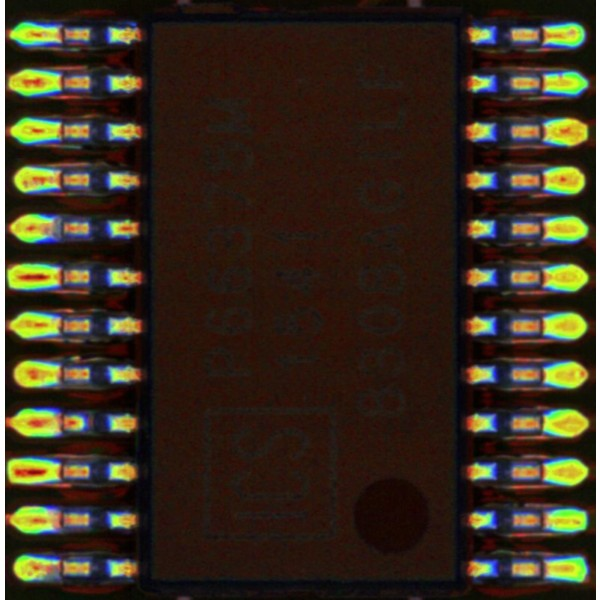Bad_podu: (44, 417, 80, 430), (529, 515, 560, 529), (531, 270, 561, 284), (529, 174, 557, 188), (44, 563, 73, 576), (530, 126, 561, 138), (45, 29, 75, 41), (530, 223, 557, 236), (44, 174, 70, 186), (529, 30, 557, 41), (531, 564, 559, 575), (47, 369, 72, 381), (530, 78, 555, 89)
